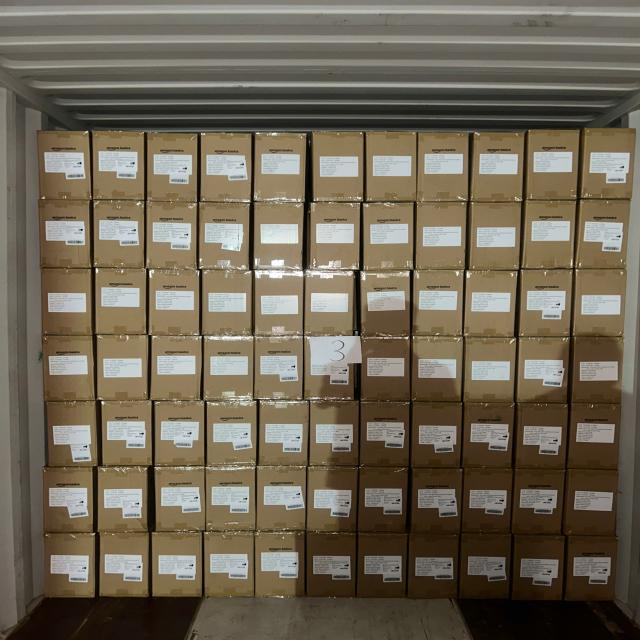Carton: (528, 130, 580, 204), (363, 132, 415, 206), (94, 132, 147, 204), (576, 198, 629, 270), (302, 334, 358, 402), (41, 131, 93, 204), (472, 134, 525, 205), (314, 133, 366, 205), (580, 130, 632, 202), (43, 334, 97, 403), (522, 268, 575, 338), (93, 200, 146, 270), (255, 135, 307, 206), (418, 130, 470, 201), (526, 198, 578, 269), (146, 134, 197, 206), (471, 201, 522, 273), (466, 268, 519, 337), (41, 200, 93, 270), (573, 266, 625, 336), (146, 200, 198, 270), (201, 135, 252, 206), (312, 202, 363, 273), (94, 333, 147, 401), (92, 268, 145, 336), (99, 464, 151, 533), (46, 398, 98, 467), (571, 335, 623, 404), (416, 200, 467, 270), (361, 202, 412, 272), (511, 535, 563, 603), (410, 333, 462, 401), (520, 334, 571, 403), (255, 201, 306, 270), (200, 200, 250, 270), (44, 532, 97, 598), (302, 268, 354, 335), (564, 468, 616, 535), (566, 401, 618, 468), (154, 531, 206, 598), (462, 535, 514, 602), (153, 334, 205, 401), (466, 336, 517, 404), (157, 464, 208, 532), (205, 398, 256, 466), (413, 268, 464, 336), (359, 270, 410, 338), (260, 397, 310, 466), (152, 267, 202, 336), (203, 336, 255, 402), (201, 270, 253, 336), (519, 401, 570, 468), (100, 531, 151, 598), (203, 534, 254, 601), (104, 398, 154, 466), (464, 400, 514, 468), (411, 400, 461, 468), (310, 465, 360, 533), (44, 465, 94, 533), (312, 398, 362, 466), (42, 267, 92, 335), (157, 398, 207, 466), (411, 468, 462, 534), (204, 466, 255, 532), (258, 466, 308, 533), (463, 466, 513, 533), (565, 535, 615, 602), (257, 532, 307, 599), (358, 465, 407, 533), (407, 534, 458, 599), (256, 334, 306, 400), (516, 468, 566, 534), (256, 268, 305, 335), (359, 399, 408, 466), (360, 336, 409, 402), (355, 534, 405, 598), (310, 534, 358, 600)
